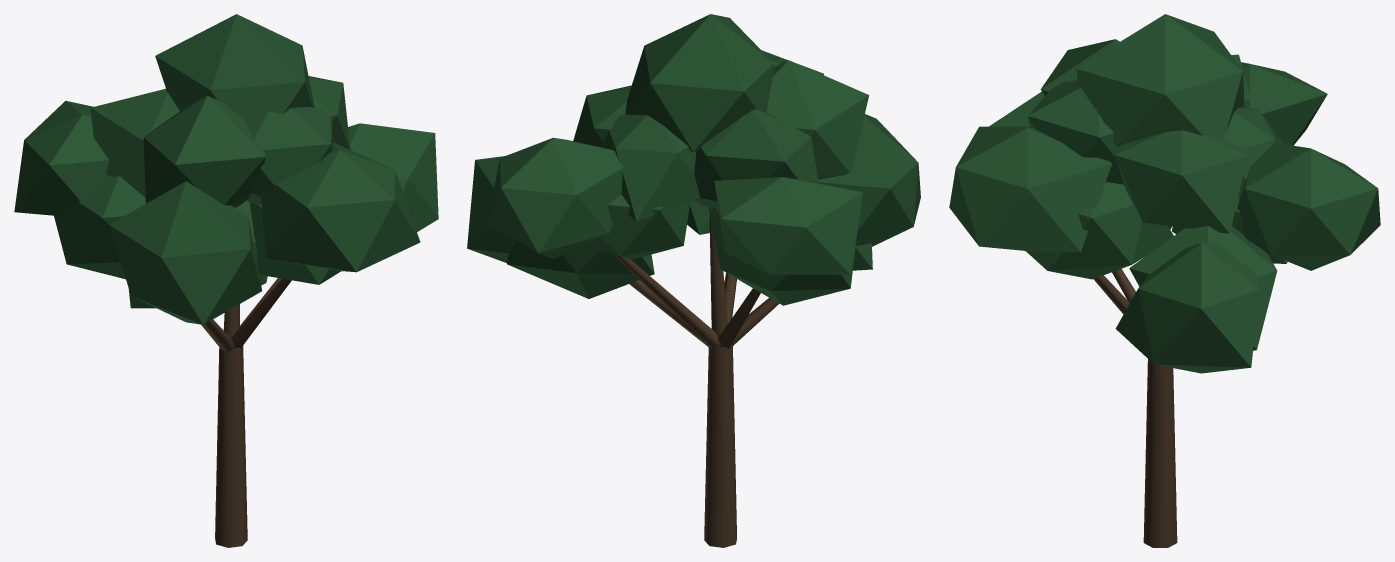
File: tree-lime-2.glb
3 renders of one model, left to right at view 1: azimuth 30°, elevation 25°; view 2: azimuth 150°, elevation 25°; view 3: azimuth 270°, elevation 25°, orthographic.
Visible parts, largest first — view 1: 01_paint0, 00_#4a3a2c; view 2: 01_paint0, 00_#4a3a2c; view 3: 01_paint0, 00_#4a3a2c.
Part boxes in pixels (x1=…): 01_paint0: x1=14, y1=14, x2=438, y2=324; 00_#4a3a2c: x1=201, y1=278, x2=291, y2=547; 01_paint0: x1=467, y1=14, x2=920, y2=305; 00_#4a3a2c: x1=614, y1=215, x2=779, y2=547; 01_paint0: x1=949, y1=14, x2=1380, y2=373; 00_#4a3a2c: x1=1093, y1=269, x2=1177, y2=547.
Size of the model in its own units: 9.72 by 12.24 by 9.
